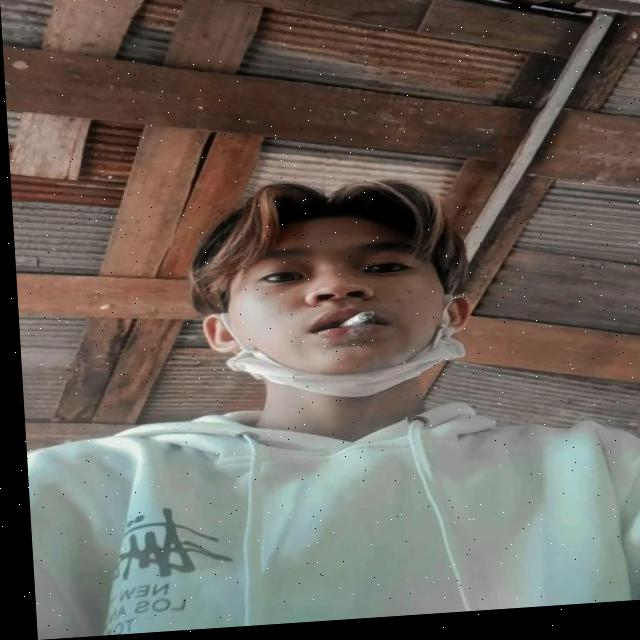cigarette: (336, 316, 370, 332)
